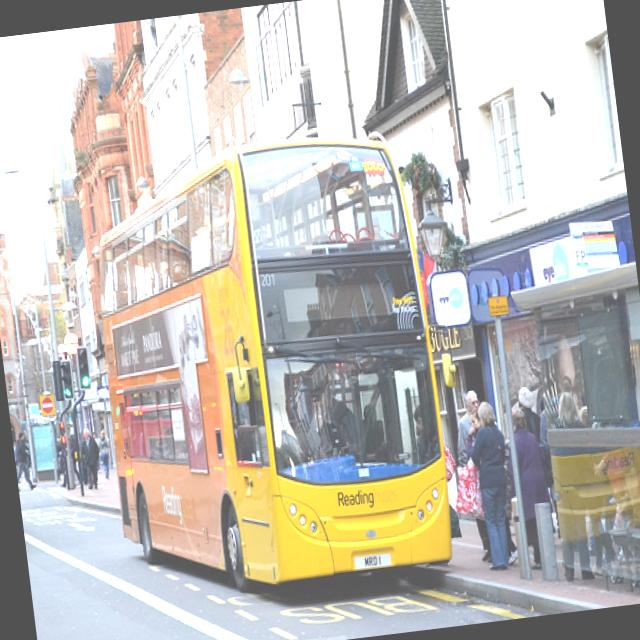Vehicle: (75, 125, 458, 606)
